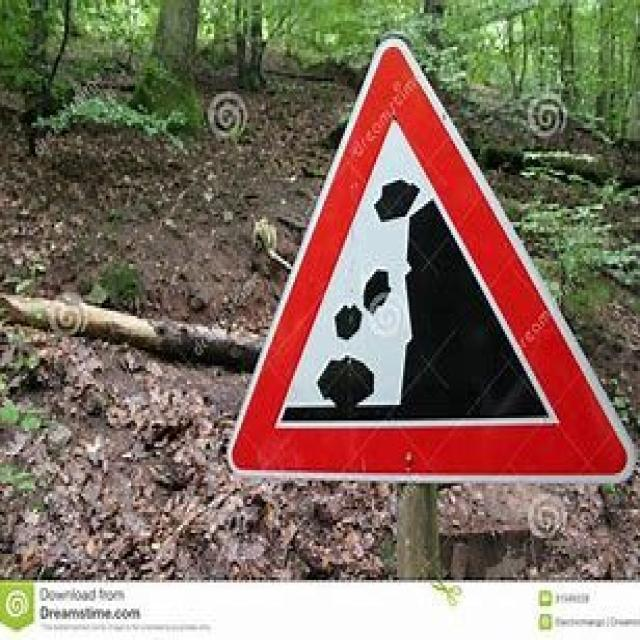falling rocks: (216, 24, 629, 507)
